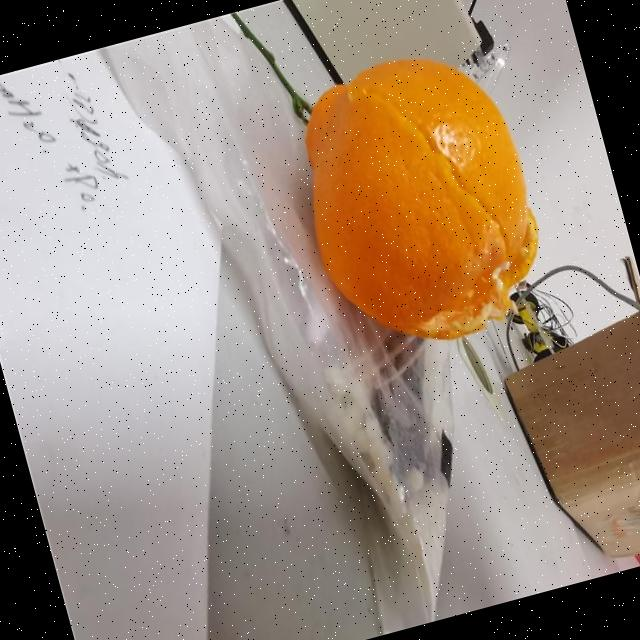orange-peel: (274, 32, 560, 367)
